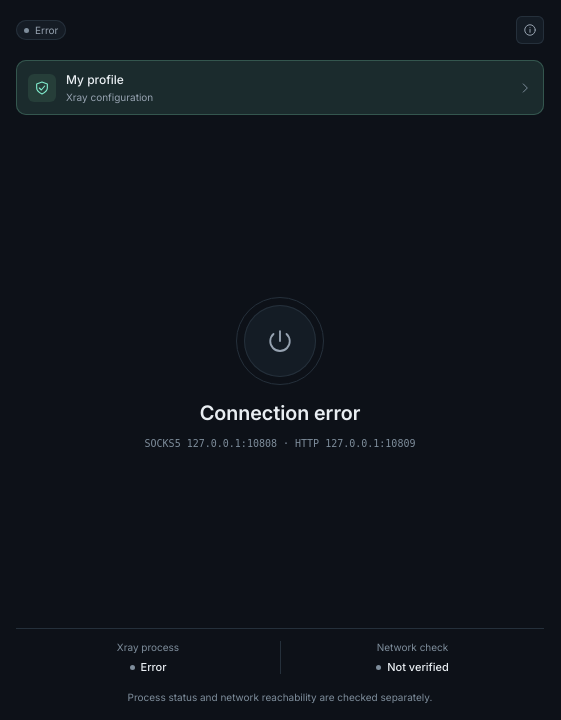
Scenario: desktop UI › permits profile repair and another connection after a cleaned failure
Expected: the button "My profile Xray configuration" is shown, [16, 60, 544, 115]
Click the button named "Open details" at (530, 30), box [516, 16, 544, 44]
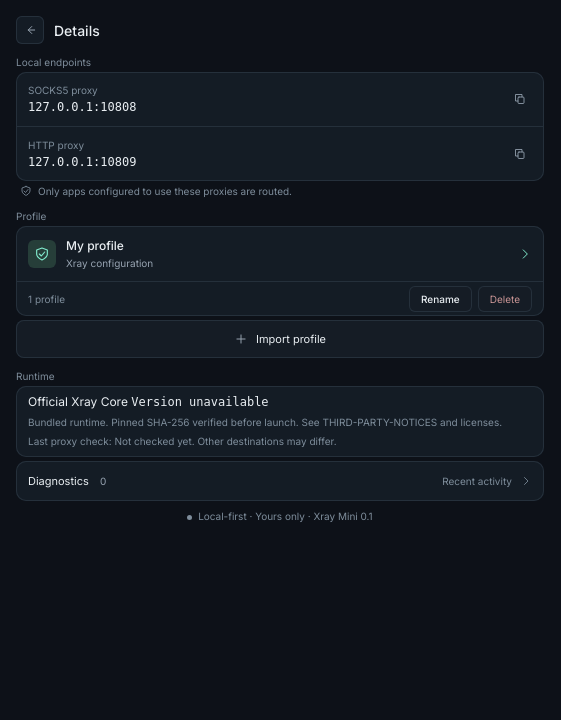
Now the button "Import profile" is enabled, box [16, 320, 544, 358]
Click the button named "Back" at (30, 30), box [16, 16, 44, 44]
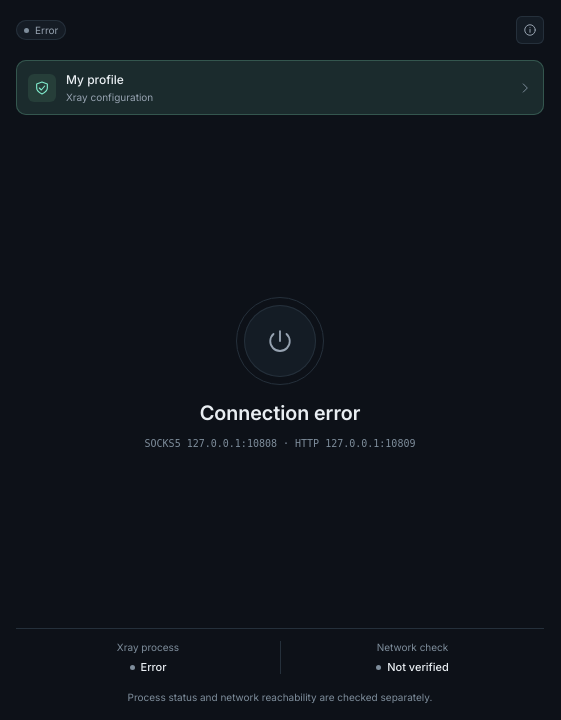
Click the button named "Connect" at (280, 340), box [232, 292, 328, 388]
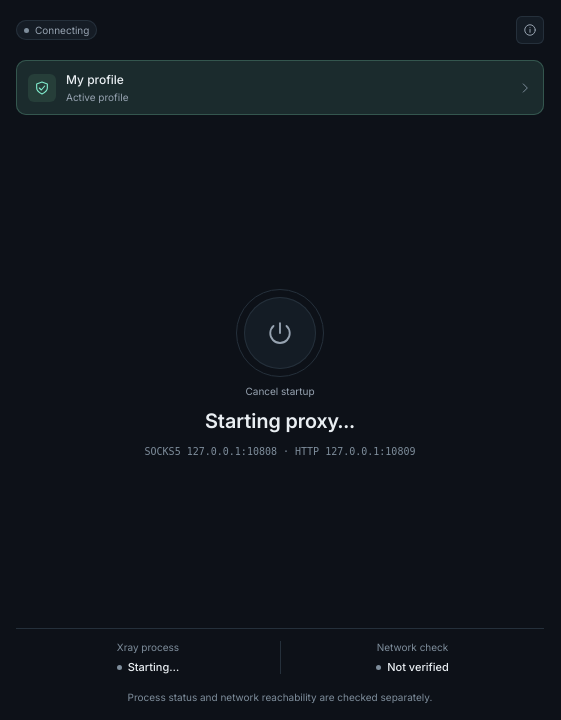
Now the heading "Starting proxy…" is shown, box [205, 408, 355, 432]
Now the element with class "status-pill" reads "Connecting", box [35, 24, 89, 36]
